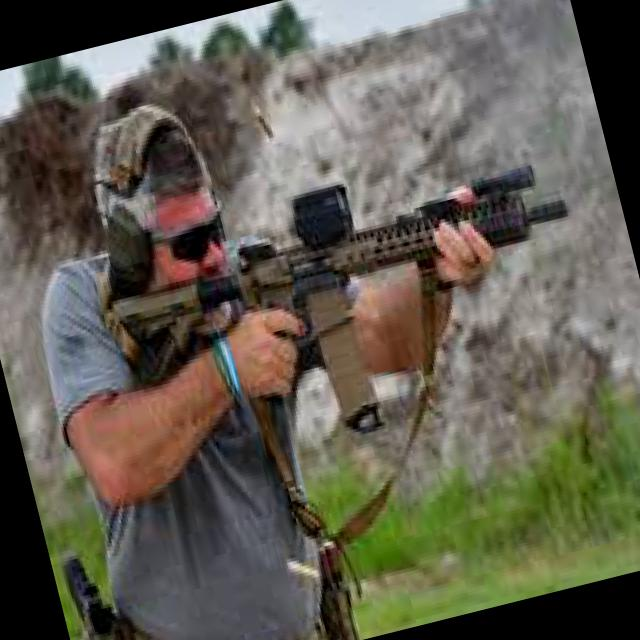long weapon: (111, 141, 582, 408)
